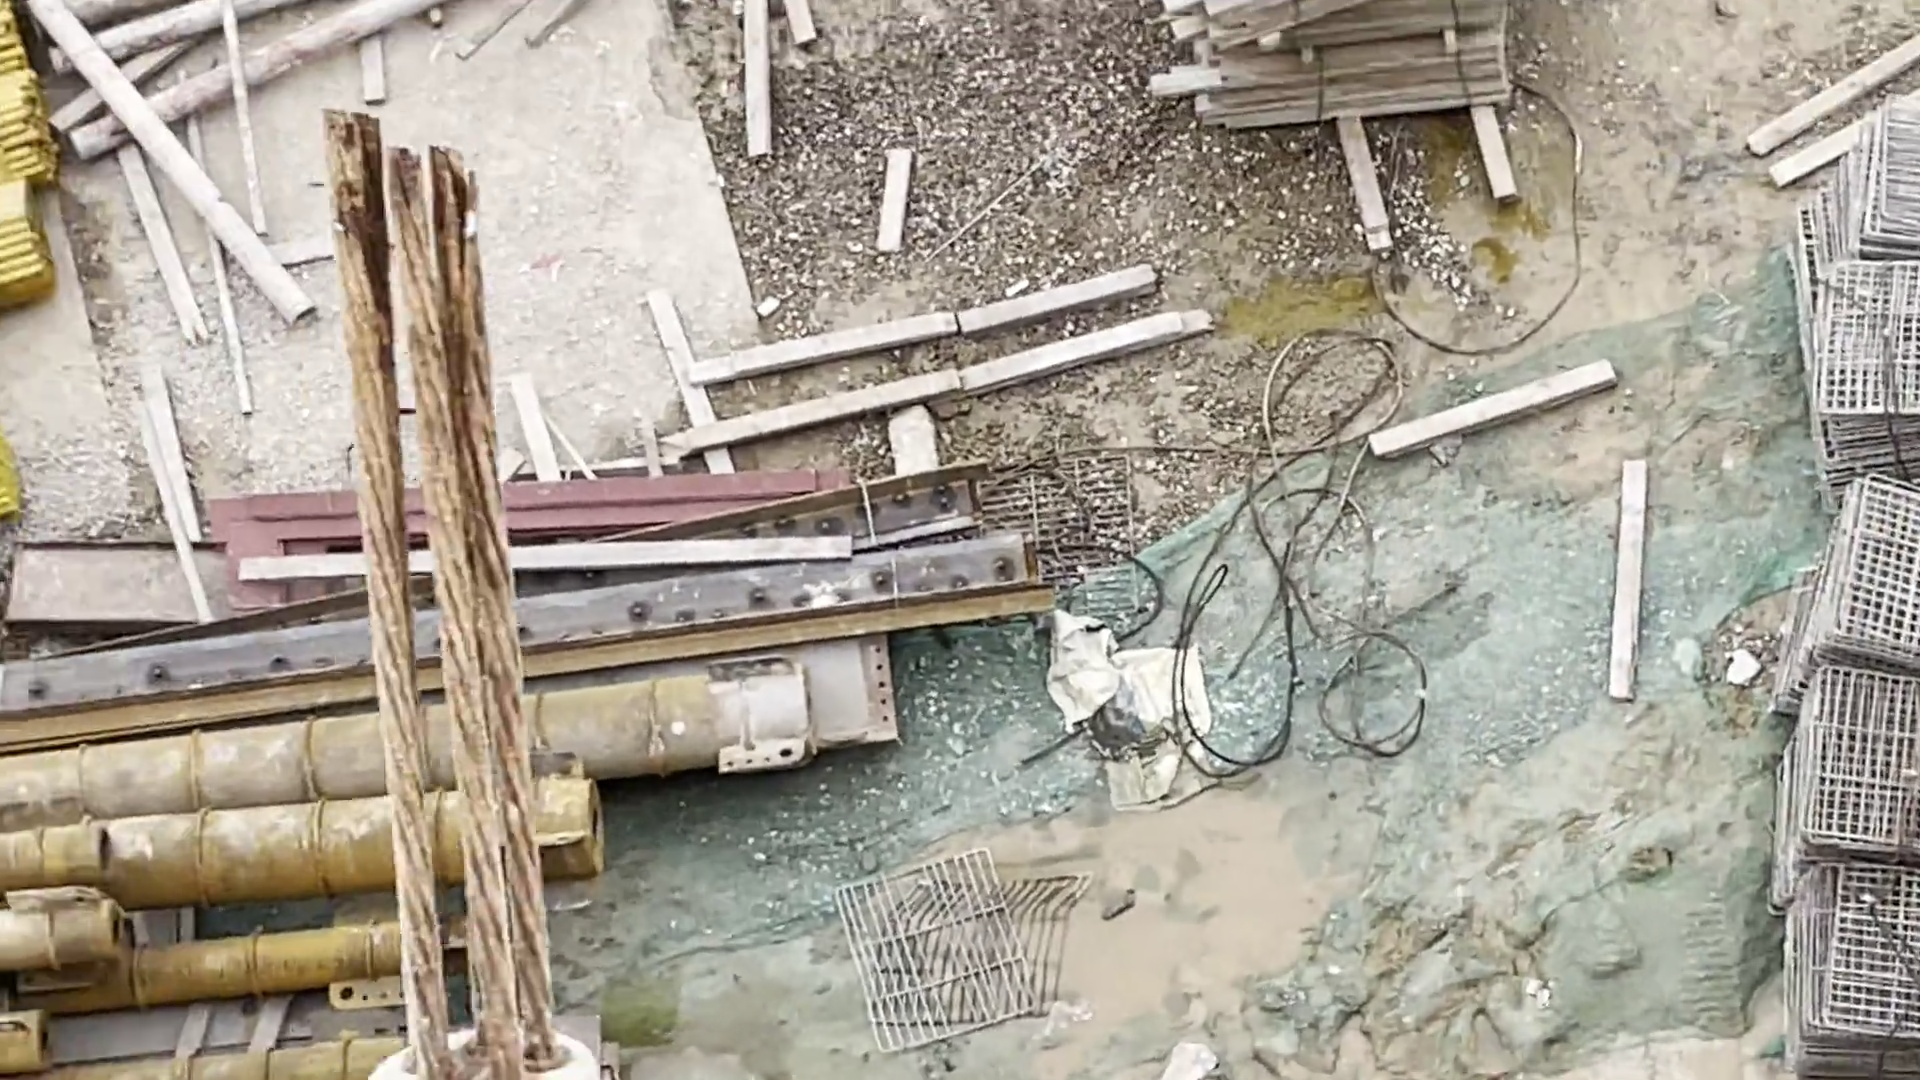wood: (1162, 5, 1538, 137)
